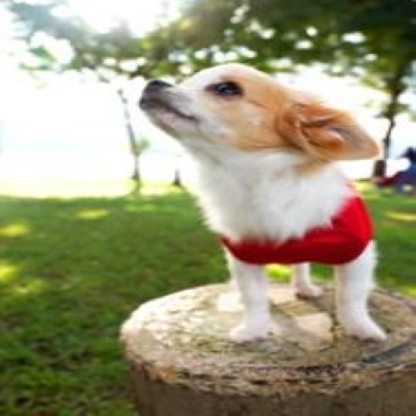chihuahua: (137, 59, 389, 344)
